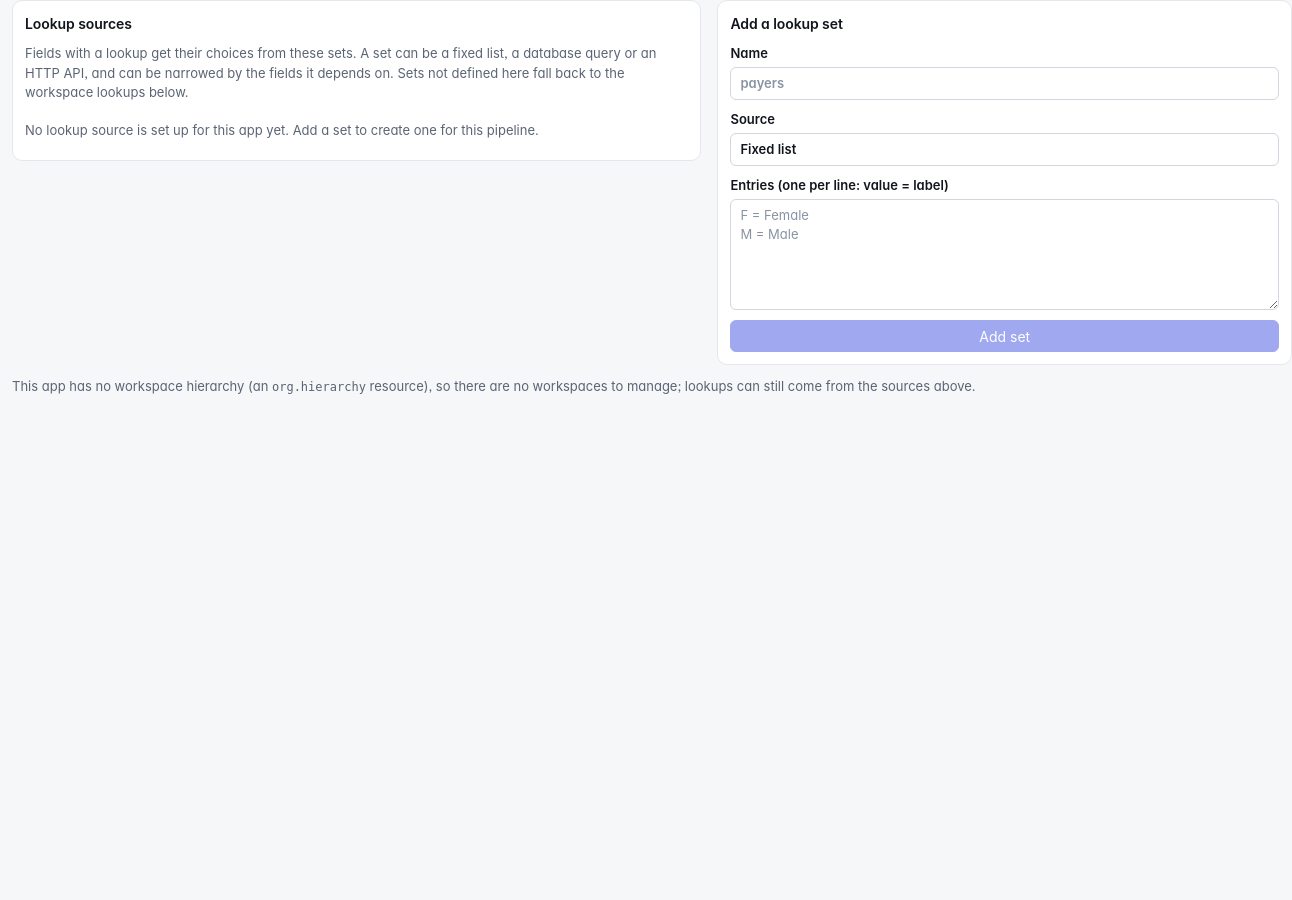
Test: adding lookup sets › tests a query set against the running app and shows the real error
Type "facilities" into the field labelled "Name" at (1005, 83), box [730,66,1279,100]
Select "Database query" in the dropdown labelled "Source" at (1005, 149), box [730,132,1279,166]
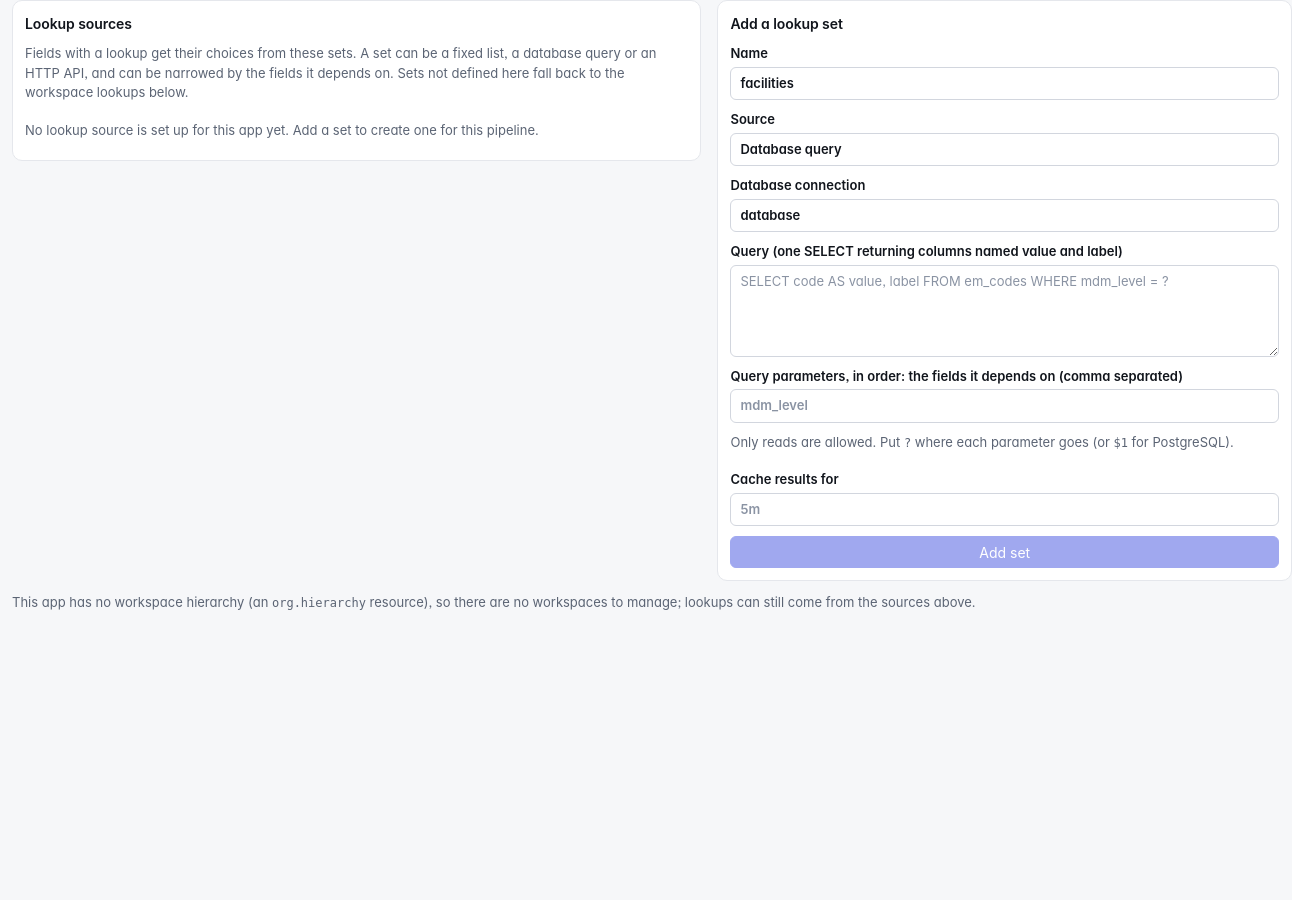
Expected: the text "Test this set" is not shown
Replace the text in the text box with placeholder "SELECT code AS value" with "SELECT id AS value FROM f WHERE a = ?" at (1005, 310), box [730,264,1279,356]
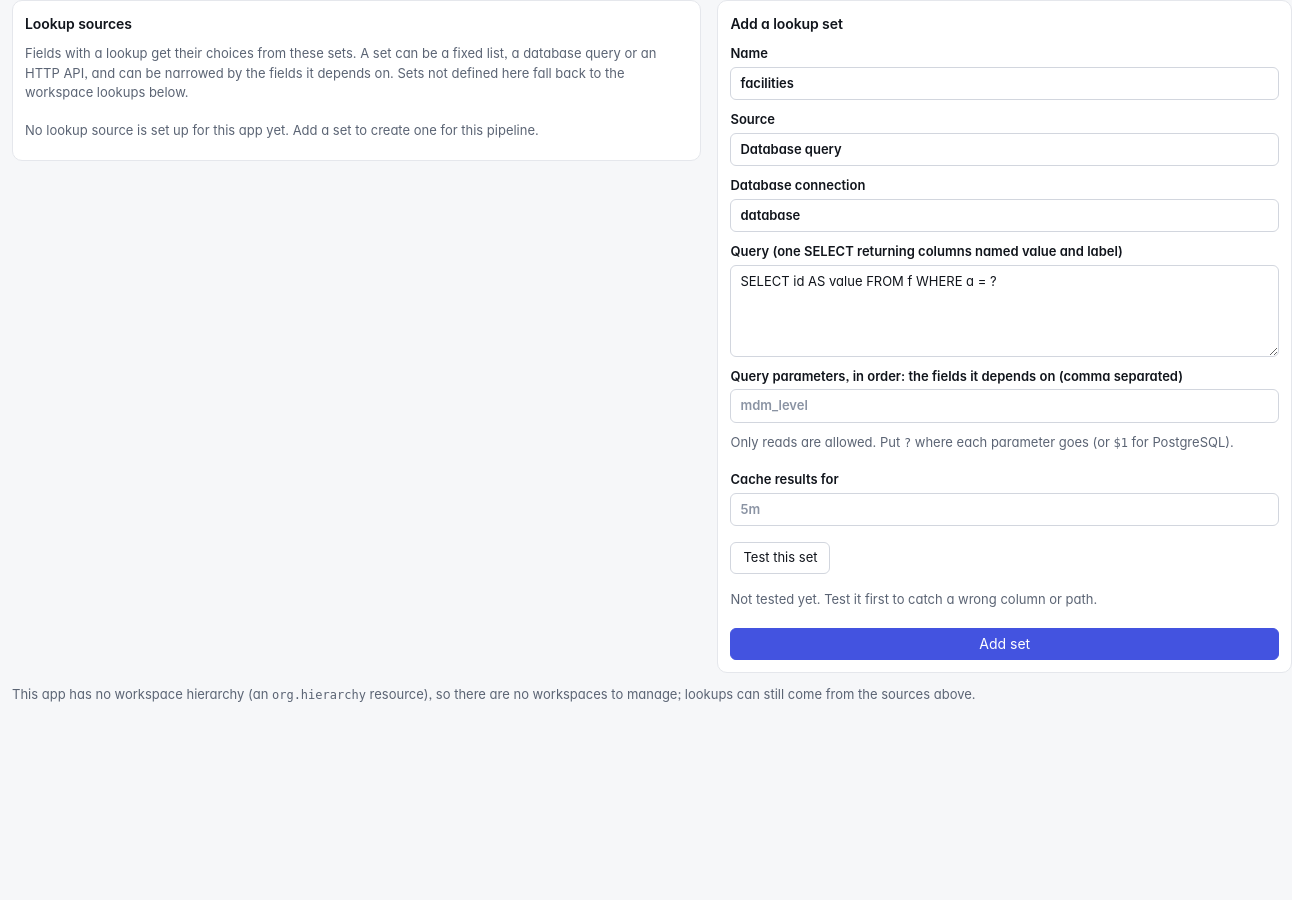
Type "mdm" into the field with placeholder "mdm_level" at (1005, 406), box [730,389,1279,422]
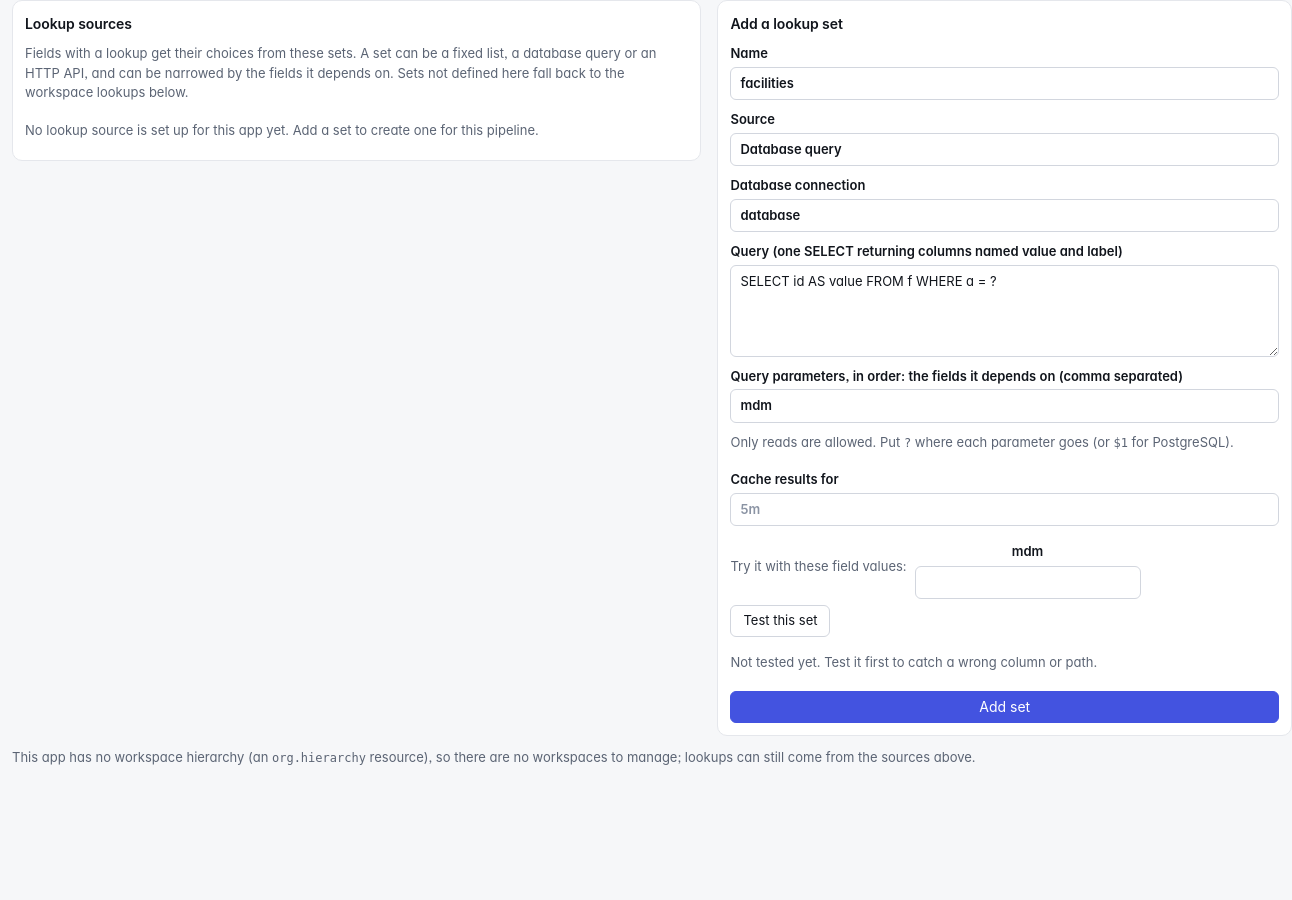
Type "High" into the field labelled "mdm" at (1028, 582), box [915,566,1141,599]
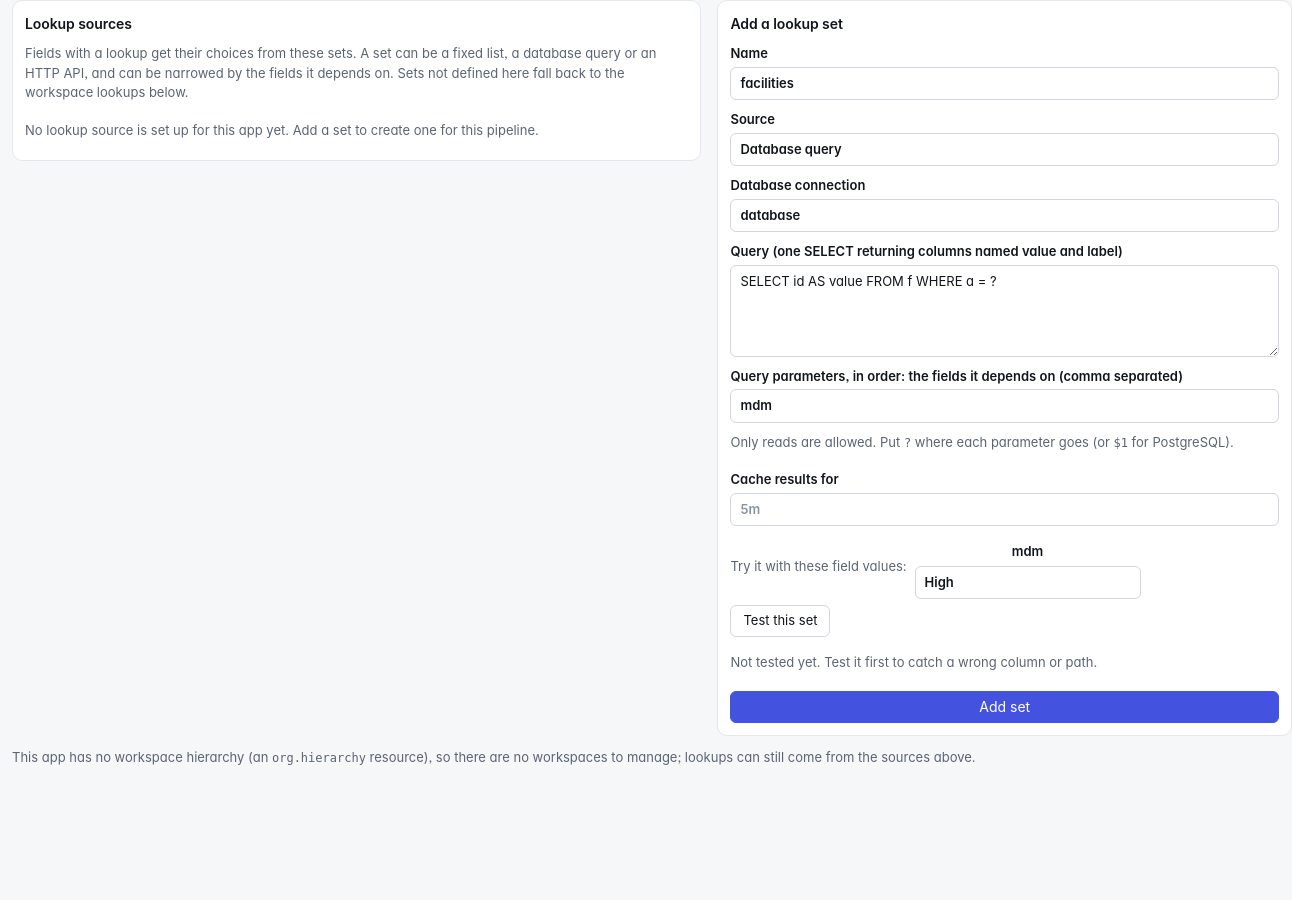
Click the button "Test this set" at (780, 621), box [730,605,830,637]
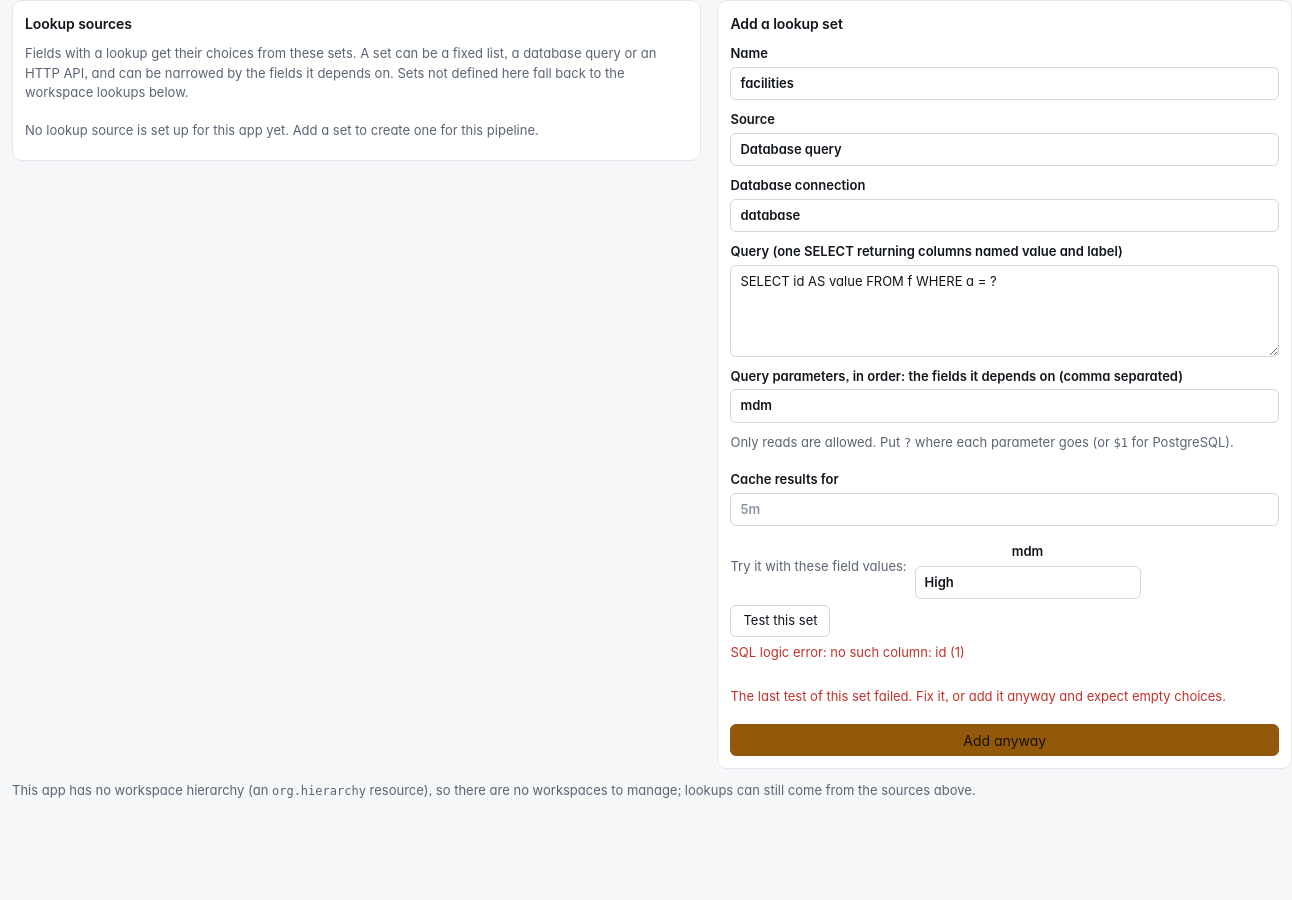
Result: the message "SQL logic error: no such column: id (1)" is shown at [730,643,965,662]
Click the button "Test this set" at (780, 621), box [730,605,830,637]
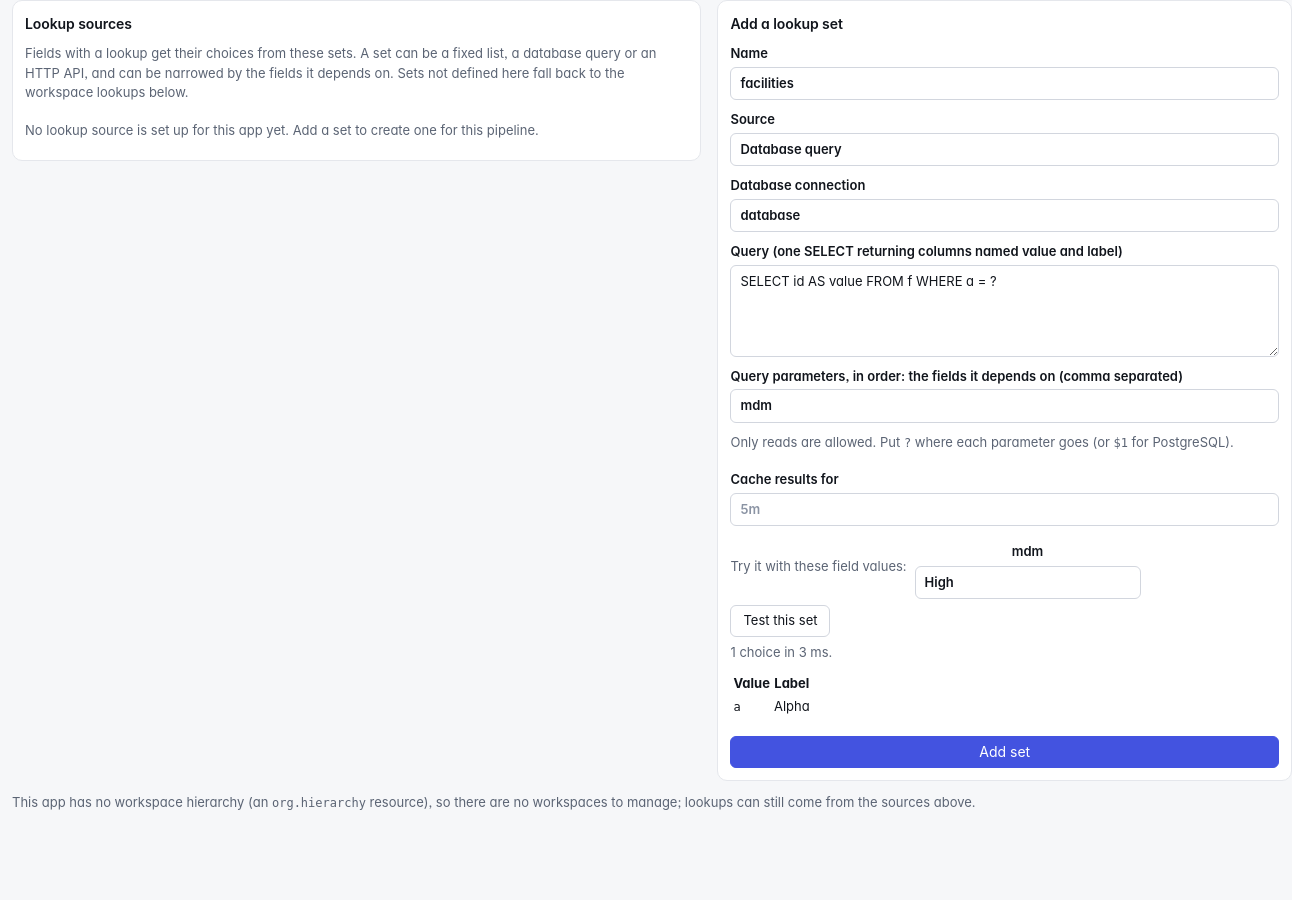
Result: the text "Alpha" is shown at [773,696,811,718]
Result: the text "1 choice in 3 ms." is shown at [730,643,832,662]
Result: the message "SQL logic error: no such column: id (1)" is gone
